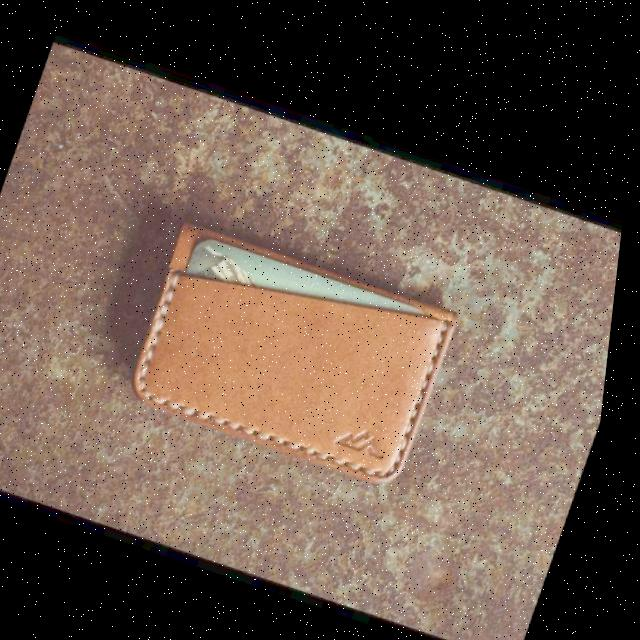cuzdan: (92, 195, 493, 512)
